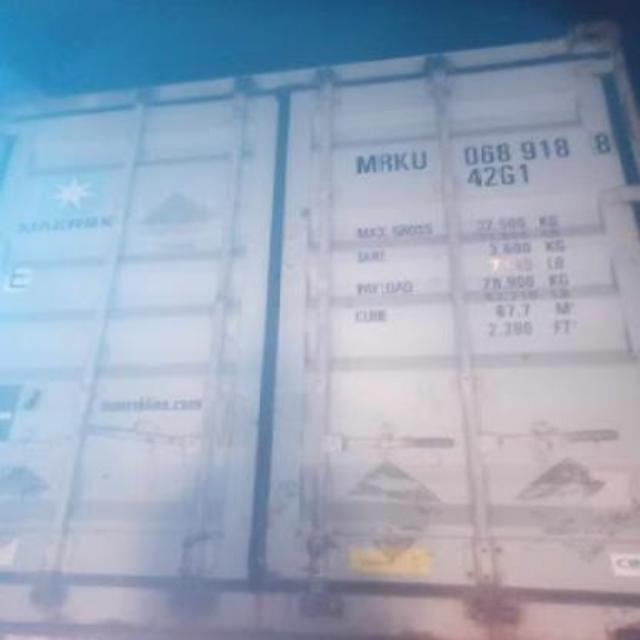0: (462, 145, 480, 165)
1: (538, 138, 548, 158)
6: (480, 144, 496, 166)
8: (592, 132, 612, 152), (552, 136, 570, 158), (496, 142, 509, 164)
9: (520, 138, 538, 160)
K: (394, 152, 410, 172)
M: (352, 152, 378, 175)
R: (376, 153, 394, 171)
U: (412, 151, 430, 169)
